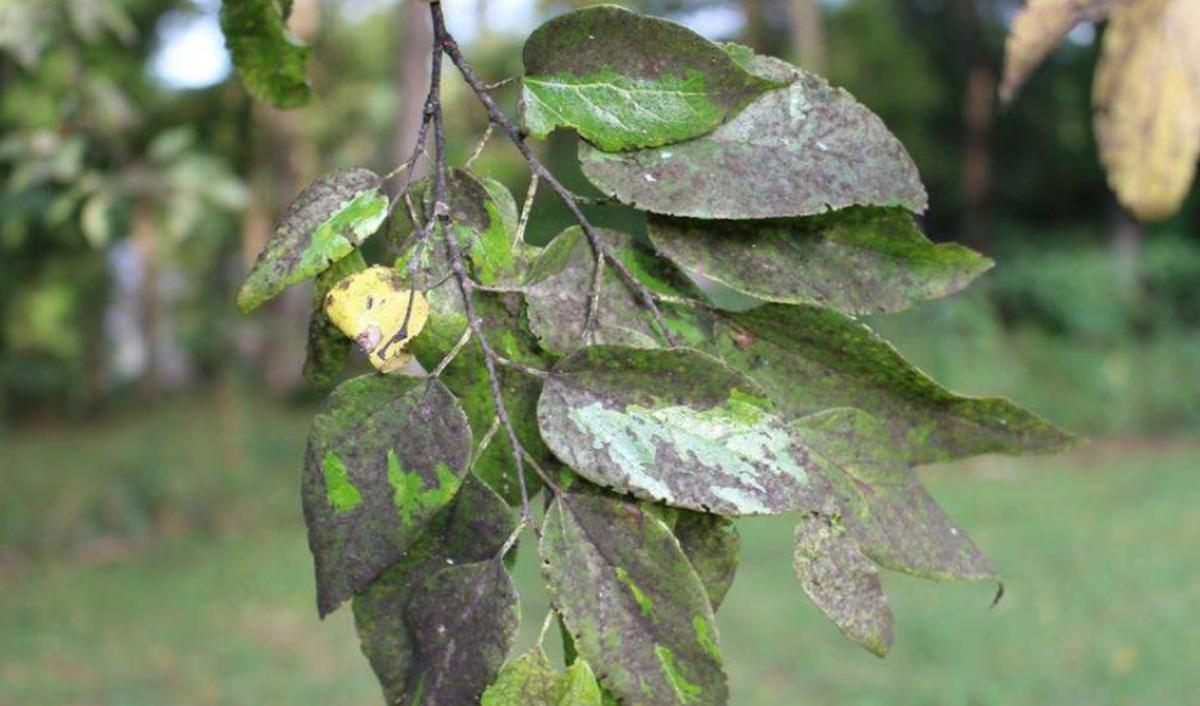soot dew: (712, 304, 1074, 464), (580, 54, 927, 219), (540, 481, 728, 705), (300, 379, 471, 612), (354, 475, 519, 705), (648, 207, 993, 315), (793, 407, 996, 580), (537, 348, 767, 498), (524, 11, 780, 117), (407, 559, 518, 705), (643, 437, 839, 516), (242, 170, 376, 279), (794, 515, 893, 655), (521, 226, 595, 354), (587, 264, 660, 346), (597, 229, 666, 280)
